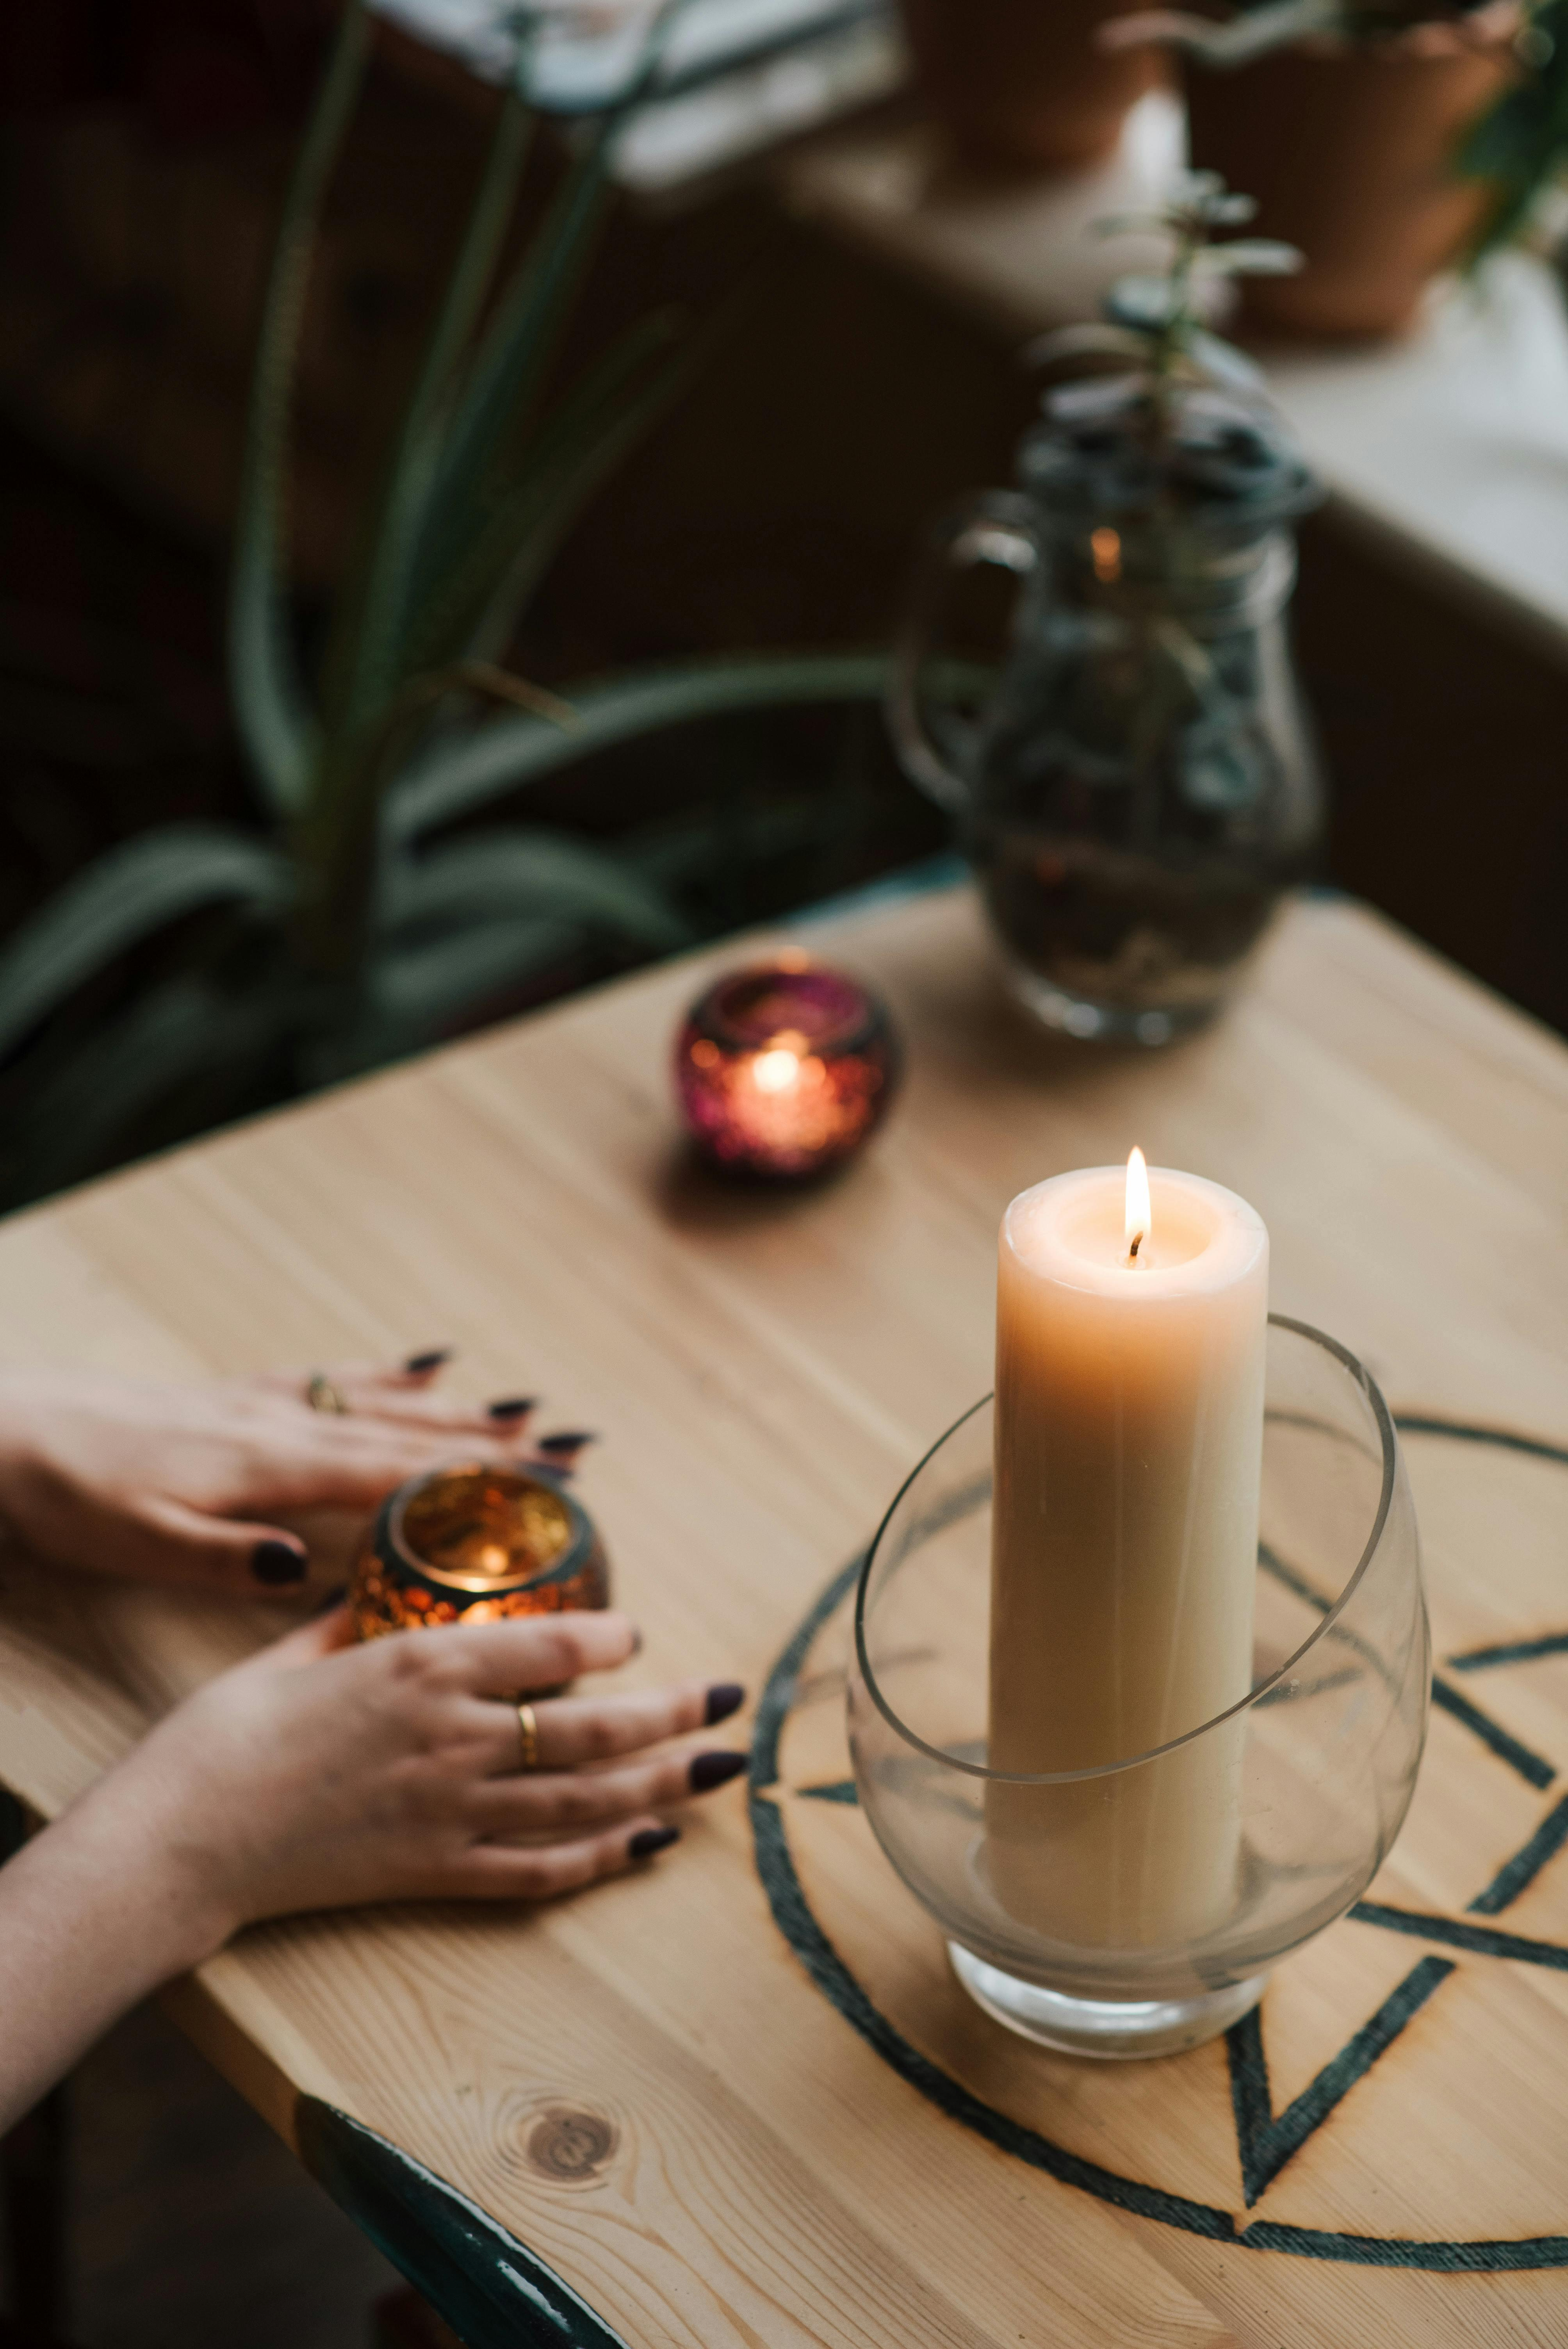Fire: (1097, 1132, 1178, 1239)
